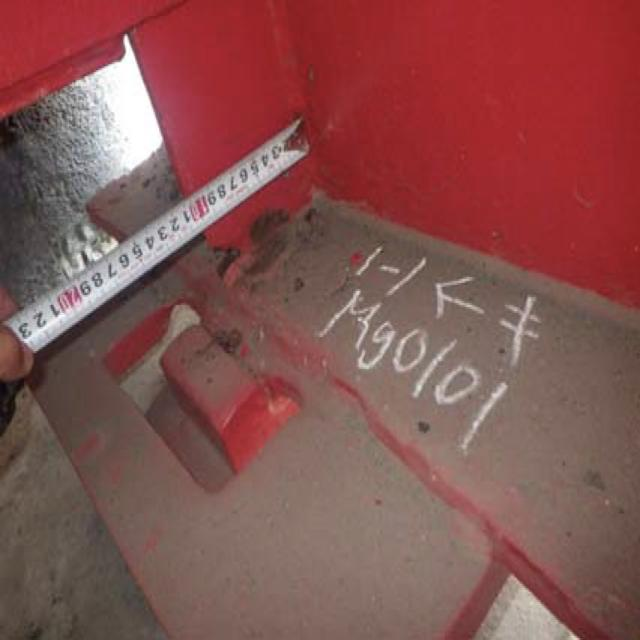corrosion: (172, 174, 398, 300)
